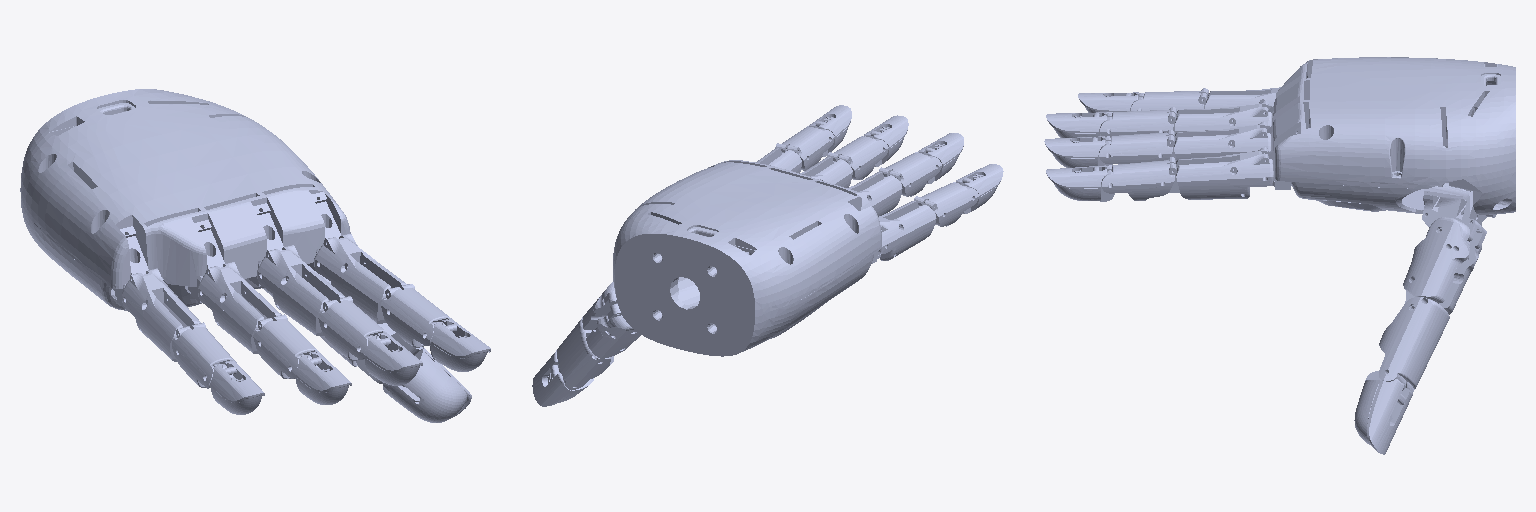
robot.urdf — aero:
<?xml version="1.0" encoding="utf-8"?>
<!-- This URDF was automatically created by SolidWorks to URDF Exporter! Originally created by Stephen Brawner (brawner@gmail.com) 
     Commit Version: 1.6.0-4-g7f85cfe  Build Version: 1.6.7995.38578
     For more information, please see http://wiki.ros.org/sw_urdf_exporter -->
<robot
  name="aero">
  <link
    name="base_link">
    <inertial>
      <origin
        xyz="-0.0129034933866917 3.57061446520855E-05 0.00467474199683585"
        rpy="0 0 0" />
      <mass
        value="0.151146292228162" />
      <inertia
        ixx="0.000133620869211754"
        ixy="-5.76572596692097E-06"
        ixz="2.13665094576789E-06"
        iyy="0.000106814894452109"
        iyz="1.10227782562003E-05"
        izz="0.000213847982310223" />
    </inertial>
    <visual>
      <origin
        xyz="0 0 0"
        rpy="0 0 0" />
      <geometry>
        <mesh
          filename="package://aero/meshes/base_link.STL" />
      </geometry>
      <material
        name="">
        <color
          rgba="0.792156862745098 0.819607843137255 0.933333333333333 1" />
      </material>
    </visual>
    <collision>
      <origin
        xyz="0 0 0"
        rpy="0 0 0" />
      <geometry>
        <mesh
          filename="package://aero/meshes/base_link.STL" />
      </geometry>
    </collision>
  </link>
  <link
    name="1_0">
    <inertial>
      <origin
        xyz="-0.0157616290640478 -0.00358567934470254 0.0175768722174495"
        rpy="0 0 0" />
      <mass
        value="0.00689729871001111" />
      <inertia
        ixx="9.93929883019657E-07"
        ixy="-8.48000942855032E-09"
        ixz="7.34706048049118E-08"
        iyy="1.0093015687572E-06"
        iyz="7.4989599004493E-08"
        izz="2.53982451610596E-07" />
    </inertial>
    <visual>
      <origin
        xyz="0 0 0"
        rpy="0 0 0" />
      <geometry>
        <mesh
          filename="package://aero/meshes/1_0.STL" />
      </geometry>
      <material
        name="">
        <color
          rgba="0.792156862745098 0.819607843137255 0.933333333333333 1" />
      </material>
    </visual>
    <collision>
      <origin
        xyz="0 0 0"
        rpy="0 0 0" />
      <geometry>
        <mesh
          filename="package://aero/meshes/1_0.STL" />
      </geometry>
    </collision>
  </link>
  <joint
    name="1_0"
    type="revolute">
    <origin
      xyz="-0.0393394245857936 -0.0461720754822862 0.00042381652828347"
      rpy="1.5707963267949 0 0" />
    <parent
      link="base_link" />
    <child
      link="1_0" />
    <axis
      xyz="0.992090032889228 0.0695065968721907 0.104528463267656" />
    <limit
      lower="0"
      upper="0"
      effort="0"
      velocity="0" />
  </joint>
  <link
    name="1_1">
    <inertial>
      <origin
        xyz="-0.0122194929152307 -0.00123487988101129 0.00755793496780745"
        rpy="0 0 0" />
      <mass
        value="0.00264501040027889" />
      <inertia
        ixx="1.71028228994908E-07"
        ixy="-2.02322486778444E-09"
        ixz="8.46136786505571E-09"
        iyy="1.89520967877256E-07"
        iyz="7.42554263795807E-09"
        izz="8.65189151018051E-08" />
    </inertial>
    <visual>
      <origin
        xyz="0 0 0"
        rpy="0 0 0" />
      <geometry>
        <mesh
          filename="package://aero/meshes/1_1.STL" />
      </geometry>
      <material
        name="">
        <color
          rgba="0.792156862745098 0.819607843137255 0.933333333333333 1" />
      </material>
    </visual>
    <collision>
      <origin
        xyz="0 0 0"
        rpy="0 0 0" />
      <geometry>
        <mesh
          filename="package://aero/meshes/1_1.STL" />
      </geometry>
    </collision>
  </link>
  <joint
    name="1_1"
    type="revolute">
    <origin
      xyz="-0.00709075442937419 -0.0019557188360947 0.0424790439916632"
      rpy="0.0177221401243358 0.00122493693289513 0.00187801953080774" />
    <parent
      link="1_0" />
    <child
      link="1_1" />
    <axis
      xyz="0.992090032889226 0.0695065968722168 0.104528463267655" />
    <limit
      lower="0"
      upper="0"
      effort="0"
      velocity="0" />
  </joint>
  <link
    name="1_2">
    <inertial>
      <origin
        xyz="-0.0121583067482402 -0.00313910644085766 0.00955759562092692"
        rpy="0 0 0" />
      <mass
        value="0.00286881487991541" />
      <inertia
        ixx="1.32361641015811E-07"
        ixy="2.28012126472609E-09"
        ixz="9.37184656046779E-09"
        iyy="1.33730670591471E-07"
        iyz="-2.17197616580308E-08"
        izz="5.90101156128506E-08" />
    </inertial>
    <visual>
      <origin
        xyz="0 0 0"
        rpy="0 0 0" />
      <geometry>
        <mesh
          filename="package://aero/meshes/1_2.STL" />
      </geometry>
      <material
        name="">
        <color
          rgba="0.792156862745098 0.819607843137255 0.933333333333333 1" />
      </material>
    </visual>
    <collision>
      <origin
        xyz="0 0 0"
        rpy="0 0 0" />
      <geometry>
        <mesh
          filename="package://aero/meshes/1_2.STL" />
      </geometry>
    </collision>
  </link>
  <joint
    name="1_2"
    type="revolute">
    <origin
      xyz="-0.00233190216111688 -0.000154305152993049 0.0218757103714512"
      rpy="-0.0204544025544474 -0.00145510190940952 -0.00214047041120031" />
    <parent
      link="1_1" />
    <child
      link="1_2" />
    <axis
      xyz="0.992090032889226 0.0695065968722166 0.104528463267655" />
    <limit
      lower="0"
      upper="0"
      effort="0"
      velocity="0" />
  </joint>
  <link
    name="2_0">
    <inertial>
      <origin
        xyz="-0.0122288211947646 -0.00290388977314435 0.0185307638816849"
        rpy="0 0 0" />
      <mass
        value="0.00689730389934046" />
      <inertia
        ixx="9.99277877003023E-07"
        ixy="-4.05769671660245E-09"
        ixz="3.7020802046095E-08"
        iyy="1.01013924172246E-06"
        iyz="7.12946444790309E-08"
        izz="2.47797241465257E-07" />
    </inertial>
    <visual>
      <origin
        xyz="0 0 0"
        rpy="0 0 0" />
      <geometry>
        <mesh
          filename="package://aero/meshes/2_0.STL" />
      </geometry>
      <material
        name="">
        <color
          rgba="0.792156862745098 0.819607843137255 0.933333333333333 1" />
      </material>
    </visual>
    <collision>
      <origin
        xyz="0 0 0"
        rpy="0 0 0" />
      <geometry>
        <mesh
          filename="package://aero/meshes/2_0.STL" />
      </geometry>
    </collision>
  </link>
  <joint
    name="2_0"
    type="revolute">
    <origin
      xyz="-0.0193223929014127 -0.0583152412631974 0.00230232315195157"
      rpy="1.5707963267949 0 0" />
    <parent
      link="base_link" />
    <child
      link="2_0" />
    <axis
      xyz="0.998021196624068 0.0348516681551969 0.0523359562429428" />
    <limit
      lower="0"
      upper="0"
      effort="0"
      velocity="0" />
  </joint>
  <link
    name="2_1">
    <inertial>
      <origin
        xyz="-0.00991757565277805 -0.000724397834917843 0.00829101833821569"
        rpy="0 0 0" />
      <mass
        value="0.00264500658338707" />
      <inertia
        ixx="1.7158875820288E-07"
        ixy="-9.89295580622701E-10"
        ixz="4.26227793211356E-09"
        iyy="1.89665531460943E-07"
        iyz="6.99694367438669E-09"
        izz="8.58131570590367E-08" />
    </inertial>
    <visual>
      <origin
        xyz="0 0 0"
        rpy="0 0 0" />
      <geometry>
        <mesh
          filename="package://aero/meshes/2_1.STL" />
      </geometry>
      <material
        name="">
        <color
          rgba="0.792156862745098 0.819607843137255 0.933333333333333 1" />
      </material>
    </visual>
    <collision>
      <origin
        xyz="0 0 0"
        rpy="0 0 0" />
      <geometry>
        <mesh
          filename="package://aero/meshes/2_1.STL" />
      </geometry>
    </collision>
  </link>
  <joint
    name="2_1"
    type="revolute">
    <origin
      xyz="-0.00414123981373518 -0.00160087000280672 0.042839181907112"
      rpy="0.0178272171696774 0.000614164494727223 0.000940338465431739" />
    <parent
      link="2_0" />
    <child
      link="2_1" />
    <axis
      xyz="0.998021196624067 0.0348516681552232 0.0523359562429428" />
    <limit
      lower="0"
      upper="0"
      effort="0"
      velocity="0" />
  </joint>
  <link
    name="2_2">
    <inertial>
      <origin
        xyz="-0.00974512906247734 -0.00262341355008144 0.0102955317494016"
        rpy="0 0 0" />
      <mass
        value="0.00286880950161031" />
      <inertia
        ixx="1.33220702261439E-07"
        ixy="1.17527843335942E-09"
        ixz="4.71709452168647E-09"
        iyy="1.3348796223502E-07"
        iyz="-2.22629778919122E-08"
        izz="5.83937418175888E-08" />
    </inertial>
    <visual>
      <origin
        xyz="0 0 0"
        rpy="0 0 0" />
      <geometry>
        <mesh
          filename="package://aero/meshes/2_2.STL" />
      </geometry>
      <material
        name="">
        <color
          rgba="0.792156862745098 0.819607843137255 0.933333333333333 1" />
      </material>
    </visual>
    <collision>
      <origin
        xyz="0 0 0"
        rpy="0 0 0" />
      <geometry>
        <mesh
          filename="package://aero/meshes/2_2.STL" />
      </geometry>
    </collision>
  </link>
  <joint
    name="2_2"
    type="revolute">
    <origin
      xyz="-0.00146140921071287 -4.19804767674303E-05 0.0219537268112065"
      rpy="-0.0205778552784913 -0.000729660017095717 -0.00107164784979129" />
    <parent
      link="2_1" />
    <child
      link="2_2" />
    <axis
      xyz="0.998021196624067 0.0348516681552232 0.0523359562429418" />
    <limit
      lower="0"
      upper="0"
      effort="0"
      velocity="0" />
  </joint>
  <link
    name="3_0">
    <inertial>
      <origin
        xyz="-0.0075100237362195 -0.00247525170776625 0.0191503075229903"
        rpy="0 0 0" />
      <mass
        value="0.00689714767089962" />
      <inertia
        ixx="1.00105338840978E-06"
        ixy="-7.7473380687206E-12"
        ixz="4.88744565037112E-12"
        iyy="1.01039832785848E-06"
        iyz="7.00591126839393E-08"
        izz="2.4570762037068E-07" />
    </inertial>
    <visual>
      <origin
        xyz="0 0 0"
        rpy="0 0 0" />
      <geometry>
        <mesh
          filename="package://aero/meshes/3_0.STL" />
      </geometry>
      <material
        name="">
        <color
          rgba="0.792156862745098 0.819607843137255 0.933333333333333 1" />
      </material>
    </visual>
    <collision>
      <origin
        xyz="0 0 0"
        rpy="0 0 0" />
      <geometry>
        <mesh
          filename="package://aero/meshes/3_0.STL" />
      </geometry>
    </collision>
  </link>
  <joint
    name="3_0"
    type="revolute">
    <origin
      xyz="0 -0.0582998130982996 0.00308192985448157"
      rpy="1.5707963267949 0 0" />
    <parent
      link="base_link" />
    <child
      link="3_0" />
    <axis
      xyz="1 0 0" />
    <limit
      lower="0"
      upper="0"
      effort="0"
      velocity="0" />
  </joint>
  <link
    name="3_1">
    <inertial>
      <origin
        xyz="-0.00741000628846612 -0.00037782763632879 0.00879971036807659"
        rpy="0 0 0" />
      <mass
        value="0.00264500553861606" />
      <inertia
        ixx="1.71777404380458E-07"
        ixy="2.35375039269279E-12"
        ixz="-1.64120501562935E-12"
        iyy="1.89712763521871E-07"
        iyz="6.85320734566975E-09"
        izz="8.55770181992596E-08" />
    </inertial>
    <visual>
      <origin
        xyz="0 0 0"
        rpy="0 0 0" />
      <geometry>
        <mesh
          filename="package://aero/meshes/3_1.STL" />
      </geometry>
      <material
        name="">
        <color
          rgba="0.792156862745098 0.819607843137255 0.933333333333333 1" />
      </material>
    </visual>
    <collision>
      <origin
        xyz="0 0 0"
        rpy="0 0 0" />
      <geometry>
        <mesh
          filename="package://aero/meshes/3_1.STL" />
      </geometry>
    </collision>
  </link>
  <joint
    name="3_1"
    type="revolute">
    <origin
      xyz="0 -0.00145536761083149 0.0429999999999992"
      rpy="0.0178622724594615 0 0" />
    <parent
      link="3_0" />
    <child
      link="3_1" />
    <axis
      xyz="1 0 0" />
    <limit
      lower="0"
      upper="0"
      effort="0"
      velocity="0" />
  </joint>
  <link
    name="3_2">
    <inertial>
      <origin
        xyz="-0.00742804405149061 -0.00229159725120851 0.0107938140517291"
        rpy="0 0 0" />
      <mass
        value="0.00286879892004499" />
      <inertia
        ixx="1.33508466307182E-07"
        ixy="7.00832418399926E-12"
        ixz="8.05039493669003E-13"
        iyy="1.33445664017383E-07"
        iyz="-2.23759475736902E-08"
        izz="5.81464502552329E-08" />
    </inertial>
    <visual>
      <origin
        xyz="0 0 0"
        rpy="0 0 0" />
      <geometry>
        <mesh
          filename="package://aero/meshes/3_2.STL" />
      </geometry>
      <material
        name="">
        <color
          rgba="0.792156862745098 0.819607843137255 0.933333333333333 1" />
      </material>
    </visual>
    <collision>
      <origin
        xyz="0 0 0"
        rpy="0 0 0" />
      <geometry>
        <mesh
          filename="package://aero/meshes/3_2.STL" />
      </geometry>
    </collision>
  </link>
  <joint
    name="3_2"
    type="revolute">
    <origin
      xyz="-8.21595911988713E-05 0 0.0220001543252506"
      rpy="-0.0206190444000853 0 0" />
    <parent
      link="3_1" />
    <child
      link="3_2" />
    <axis
      xyz="1 0 0" />
    <limit
      lower="0"
      upper="0"
      effort="0"
      velocity="0" />
  </joint>
  <link
    name="4_0">
    <inertial>
      <origin
        xyz="0.00873172434887222 -0.00278157067481253 0.0187141921675561"
        rpy="0 0 0" />
      <mass
        value="0.00689727911900251" />
      <inertia
        ixx="9.99258923988681E-07"
        ixy="4.05415625568769E-09"
        ixz="-3.70097000939822E-08"
        iyy="1.01015135750375E-06"
        iyz="7.13074772762687E-08"
        izz="2.47785442894681E-07" />
    </inertial>
    <visual>
      <origin
        xyz="0 0 0"
        rpy="0 0 0" />
      <geometry>
        <mesh
          filename="package://aero/meshes/4_0.STL" />
      </geometry>
      <material
        name="">
        <color
          rgba="0.792156862745098 0.819607843137255 0.933333333333333 1" />
      </material>
    </visual>
    <collision>
      <origin
        xyz="0 0 0"
        rpy="0 0 0" />
      <geometry>
        <mesh
          filename="package://aero/meshes/4_0.STL" />
      </geometry>
    </collision>
  </link>
  <joint
    name="4_0"
    type="revolute">
    <origin
      xyz="0.00759950443274258 -0.0581318381267945 0.00218019095627987"
      rpy="1.5707963267949 0 0" />
    <parent
      link="base_link" />
    <child
      link="4_0" />
    <axis
      xyz="0.998021196624069 -0.0348516681551842 -0.0523359562429425" />
    <limit
      lower="0"
      upper="0"
      effort="0"
      velocity="0" />
  </joint>
  <link
    name="4_1">
    <inertial>
      <origin
        xyz="0.00755917667941717 -0.000642035052008212 0.00841469776754164"
        rpy="0 0 0" />
      <mass
        value="0.00264500800556095" />
      <inertia
        ixx="1.71588621541424E-07"
        ixy="9.93921500624786E-10"
        ixz="-4.26536627267678E-09"
        iyy="1.89665625123146E-07"
        iyz="6.9968977474414E-09"
        izz="8.58134202867448E-08" />
    </inertial>
    <visual>
      <origin
        xyz="0 0 0"
        rpy="0 0 0" />
      <geometry>
        <mesh
          filename="package://aero/meshes/4_1.STL" />
      </geometry>
      <material
        name="">
        <color
          rgba="0.792156862745098 0.819607843137255 0.933333333333333 1" />
      </material>
    </visual>
    <collision>
      <origin
        xyz="0 0 0"
        rpy="0 0 0" />
      <geometry>
        <mesh
          filename="package://aero/meshes/4_1.STL" />
      </geometry>
    </collision>
  </link>
  <joint
    name="4_1"
    type="revolute">
    <origin
      xyz="0.00300250336993436 -0.00156110444994033 0.0428988969321"
      rpy="0.0178272171696718 -0.000614164494725835 -0.000940338465554549" />
    <parent
      link="4_0" />
    <child
      link="4_1" />
    <axis
      xyz="0.998021196624068 -0.0348516681551887 -0.0523359562429438" />
    <limit
      lower="0"
      upper="0"
      effort="0"
      velocity="0" />
  </joint>
  <link
    name="4_2">
    <inertial>
      <origin
        xyz="0.00749712228949739 -0.00254502851270579 0.0104132650741636"
        rpy="0 0 0" />
      <mass
        value="0.0028688084863477" />
      <inertia
        ixx="1.33221973735726E-07"
        ixy="-1.16079283327888E-09"
        ixz="-4.71540178869085E-09"
        iyy="1.3348782351499E-07"
        iyz="-2.22635464117812E-08"
        izz="5.83949185484812E-08" />
    </inertial>
    <visual>
      <origin
        xyz="0 0 0"
        rpy="0 0 0" />
      <geometry>
        <mesh
          filename="package://aero/meshes/4_2.STL" />
      </geometry>
      <material
        name="">
        <color
          rgba="0.792156862745098 0.819607843137255 0.933333333333333 1" />
      </material>
    </visual>
    <collision>
      <origin
        xyz="0 0 0"
        rpy="0 0 0" />
      <geometry>
        <mesh
          filename="package://aero/meshes/4_2.STL" />
      </geometry>
    </collision>
  </link>
  <joint
    name="4_2"
    type="revolute">
    <origin
      xyz="0.00115101346755463 -3.1141218569682E-05 0.0219700038783537"
      rpy="-0.0205778552784913 0.000729660017094323 0.00107164784979131" />
    <parent
      link="4_1" />
    <child
      link="4_2" />
    <axis
      xyz="0.998021196624069 -0.0348516681551579 -0.0523359562429429" />
    <limit
      lower="0"
      upper="0"
      effort="0"
      velocity="0" />
  </joint>
  <link
    name="5_0">
    <inertial>
      <origin
        xyz="0.00250854991666511 -0.0192740184243694 -0.000577057373825006"
        rpy="0 0 0" />
      <mass
        value="0.0112212826939696" />
      <inertia
        ixx="1.37239168684344E-06"
        ixy="3.07768977828376E-07"
        ixz="-2.49823339213696E-07"
        iyy="1.19642191017829E-06"
        iyz="2.30553659892364E-07"
        izz="1.49805173194586E-06" />
    </inertial>
    <visual>
      <origin
        xyz="0 0 0"
        rpy="0 0 0" />
      <geometry>
        <mesh
          filename="package://aero/meshes/5_0.STL" />
      </geometry>
      <material
        name="">
        <color
          rgba="0.792156862745098 0.819607843137255 0.933333333333333 1" />
      </material>
    </visual>
    <collision>
      <origin
        xyz="0 0 0"
        rpy="0 0 0" />
      <geometry>
        <mesh
          filename="package://aero/meshes/5_0.STL" />
      </geometry>
    </collision>
  </link>
  <joint
    name="5_0"
    type="revolute">
    <origin
      xyz="0.0347747031224083 0.014985225313606 -0.0158351717023788"
      rpy="1.56845132377084 0.00205881678044051 -0.00319306631444224" />
    <parent
      link="base_link" />
    <child
      link="5_0" />
    <axis
      xyz="0.524699577574363 0.714917845485349 0.462150221789271" />
    <limit
      lower="0"
      upper="0"
      effort="0"
      velocity="0" />
  </joint>
  <link
    name="5_1">
    <inertial>
      <origin
        xyz="0.00100527892643325 -0.0174450792932297 -0.00192166696542602"
        rpy="0 0 0" />
      <mass
        value="0.00692652159135384" />
      <inertia
        ixx="6.60364125405979E-07"
        ixy="1.24851476800189E-07"
        ixz="-1.35737838359861E-07"
        iyy="5.64423946724989E-07"
        iyz="8.49071497911401E-08"
        izz="7.33683495446033E-07" />
    </inertial>
    <visual>
      <origin
        xyz="0 0 0"
        rpy="0 0 0" />
      <geometry>
        <mesh
          filename="package://aero/meshes/5_1.STL" />
      </geometry>
      <material
        name="">
        <color
          rgba="0.792156862745098 0.819607843137255 0.933333333333333 1" />
      </material>
    </visual>
    <collision>
      <origin
        xyz="0 0 0"
        rpy="0 0 0" />
      <geometry>
        <mesh
          filename="package://aero/meshes/5_1.STL" />
      </geometry>
    </collision>
  </link>
  <joint
    name="5_1"
    type="revolute">
    <origin
      xyz="0.023398827795951 -0.0247394287366027 0.0117046444546072"
      rpy="-0.00911911771657093 -0.0125299940150063 -0.00801916112804946" />
    <parent
      link="5_0" />
    <child
      link="5_1" />
    <axis
      xyz="0.524699577574394 0.714917845485454 0.462150221789073" />
    <limit
      lower="0"
      upper="0"
      effort="0"
      velocity="0" />
  </joint>
  <link
    name="5_2">
    <inertial>
      <origin
        xyz="-0.00760751479062233 -0.0292005622149165 -0.00533345639259648"
        rpy="0 0 0" />
      <mass
        value="0.00688553749237443" />
      <inertia
        ixx="3.56580145934911E-07"
        ixy="1.31725304426903E-07"
        ixz="-3.89453931370513E-08"
        iyy="4.02598121512841E-07"
        iyz="3.66401668312303E-09"
        izz="5.40210763821605E-07" />
    </inertial>
    <visual>
      <origin
        xyz="0 0 0"
        rpy="0 0 0" />
      <geometry>
        <mesh
          filename="package://aero/meshes/5_2.STL" />
      </geometry>
      <material
        name="">
        <color
          rgba="0.792156862745098 0.819607843137255 0.933333333333333 1" />
      </material>
    </visual>
    <collision>
      <origin
        xyz="0 0 0"
        rpy="0 0 0" />
      <geometry>
        <mesh
          filename="package://aero/meshes/5_2.STL" />
      </geometry>
    </collision>
  </link>
  <joint
    name="5_2"
    type="revolute">
    <origin
      xyz="0.0267086735988907 -0.010392671576438 0.0169112013322939"
      rpy="0.00285148183614749 0.00387500537584519 0.00251279409450984" />
    <parent
      link="5_1" />
    <child
      link="5_2" />
    <axis
      xyz="0.524699577574298 0.714917845485546 0.462150221789039" />
    <limit
      lower="0"
      upper="0"
      effort="0"
      velocity="0" />
  </joint>
</robot>

--- Facts derived from the render (not from the file) ---
Views: 3 orthographic renders of the robot side by side, from view 1: azimuth 30°, elevation 25°; view 2: azimuth 150°, elevation 25°; view 3: azimuth 270°, elevation 25°.
Robot: aero — 16 links, 15 joints (15 revolute); root link base_link; default pose: all joints at 0.
Links seen in each view (by area): view 1: base_link, 3_0, 4_0, 2_0, 1_0, 5_2, 4_1, 3_1, 2_1, 1_1, 4_2, 3_2 (+3 smaller); view 2: base_link, 1_0, 5_0, 5_1, 1_1, 2_1, 2_0, 3_1, 5_2, 4_1, 1_2, 2_2 (+4 smaller); view 3: base_link, 5_0, 5_1, 4_0, 5_2, 3_0, 4_1, 2_0, 3_1, 4_2, 2_1, 3_2 (+4 smaller).
Link boxes in pixels (box(x1,y1,x2,y2)): base_link: box(20, 89, 350, 310); 3_0: box(257, 245, 344, 335); 4_0: box(314, 233, 406, 323); 2_0: box(198, 262, 281, 353); 1_0: box(122, 268, 207, 361); 5_2: box(381, 347, 471, 422); 4_1: box(381, 284, 452, 347); 3_1: box(318, 296, 390, 360); 2_1: box(253, 314, 319, 378); 1_1: box(172, 322, 236, 388); 4_2: box(430, 319, 490, 371); 3_2: box(364, 333, 422, 385); base_link: box(604, 160, 881, 356); 1_0: box(877, 201, 936, 260); 5_0: box(582, 282, 640, 358); 5_1: box(557, 317, 613, 390); 1_1: box(914, 182, 978, 226); 2_1: box(879, 152, 941, 196); 2_0: box(847, 172, 902, 216); 3_1: box(827, 136, 888, 179); 5_2: box(532, 350, 593, 406); 4_1: box(775, 126, 834, 170); 1_2: box(956, 164, 1003, 213); 2_2: box(918, 133, 963, 183); base_link: box(1267, 57, 1515, 248); 5_0: box(1403, 217, 1481, 314); 5_1: box(1379, 297, 1449, 392); 4_0: box(1169, 147, 1273, 199); 5_2: box(1354, 371, 1412, 454); 3_0: box(1160, 121, 1271, 160); 4_1: box(1101, 157, 1176, 200); 2_0: box(1160, 101, 1272, 133); 3_1: box(1099, 130, 1174, 163); 4_2: box(1046, 165, 1114, 201); 2_1: box(1100, 107, 1176, 136); 3_2: box(1044, 136, 1112, 167).
Size in the robot's own frame: 0.1626 by 0.1978 by 0.125 metres.
Meshes: 16 distinct files referenced, 16 mesh visuals loaded (16 binary STL).
